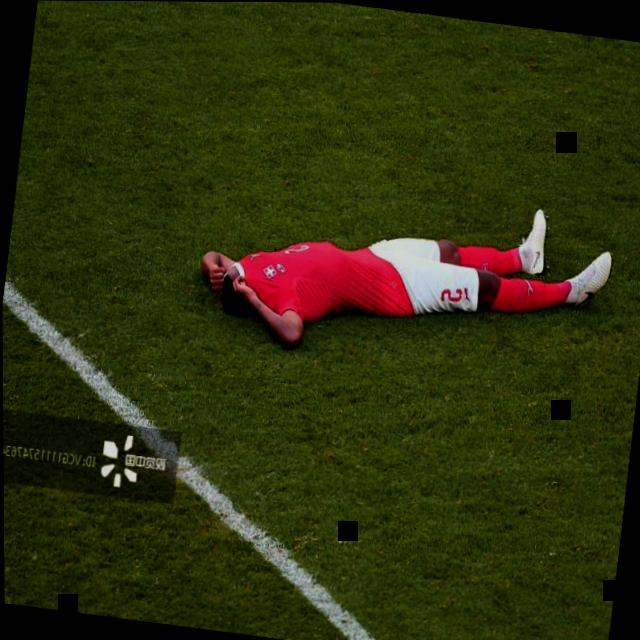Fall-Detected: (192, 143, 630, 389)
